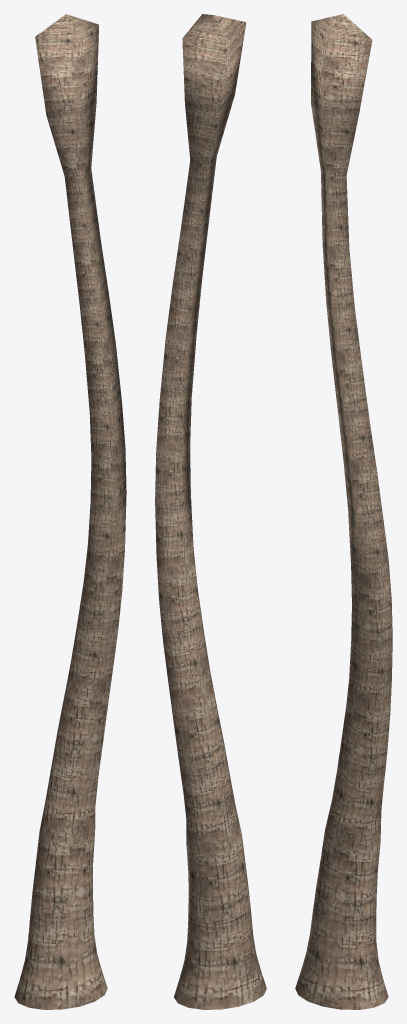
The model's file is m_palm_p2_31_trunk_0.001.glb.
The picture shows the model from 3 angles, left to right: view 1: azimuth 30°, elevation 25°; view 2: azimuth 210°, elevation 25°; view 3: azimuth 330°, elevation 25°; orthographic projection.
Visible parts, largest first — view 1: M_Palm_P2_31_Trunk_0.001; view 2: M_Palm_P2_31_Trunk_0.001; view 3: M_Palm_P2_31_Trunk_0.001.
Boxes of the visible parts, x1,y1,x2,y2 form: M_Palm_P2_31_Trunk_0.001: (14,14,126,1009); M_Palm_P2_31_Trunk_0.001: (155,14,266,1009); M_Palm_P2_31_Trunk_0.001: (295,14,392,1009).
Bounding box in the file's own units: 0.5719 × 5.47 × 0.4354.
1 material, 1 textured.
